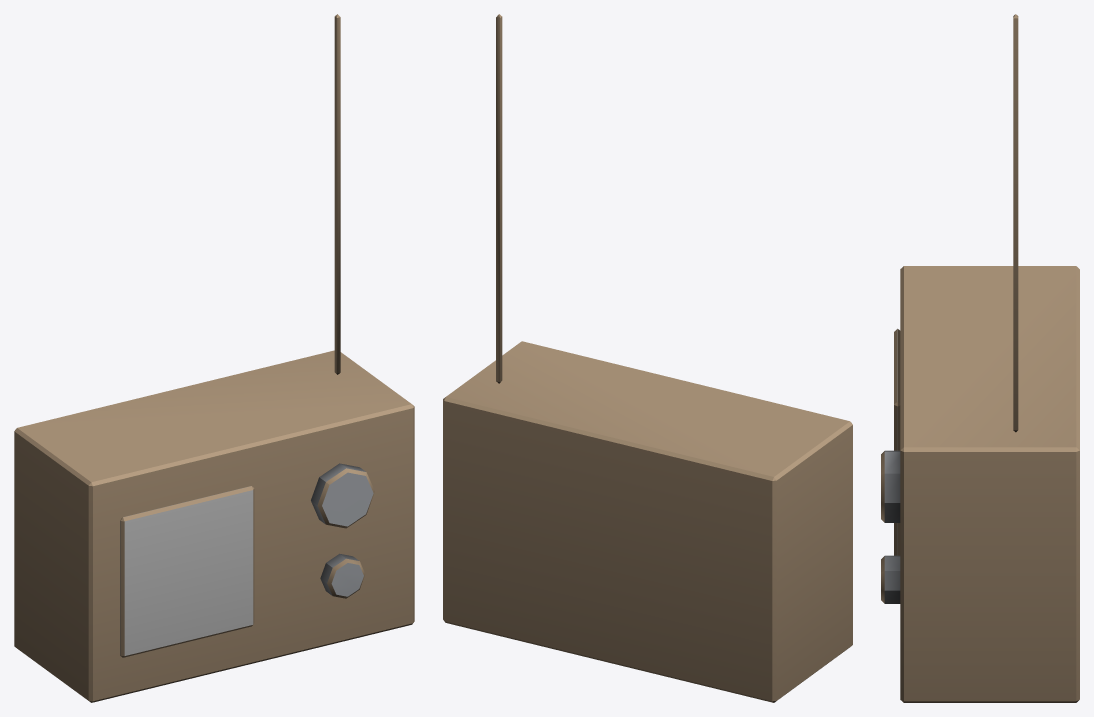
Rendered from radio_old.glb.
The picture shows the model from 3 angles, left to right: view 1: azimuth 30°, elevation 25°; view 2: azimuth 150°, elevation 25°; view 3: azimuth 270°, elevation 25°; orthographic projection. The views are drawn at different scales.
Parts seen in each view (by area): view 1: radio_old; view 2: radio_old; view 3: radio_old.
Part boxes in pixels (x1,y1,x2,y2): radio_old: (14, 14, 414, 702); radio_old: (443, 14, 852, 702); radio_old: (881, 14, 1079, 702).
Bounding box in the file's own units: 0.34 × 0.58 × 0.155.
